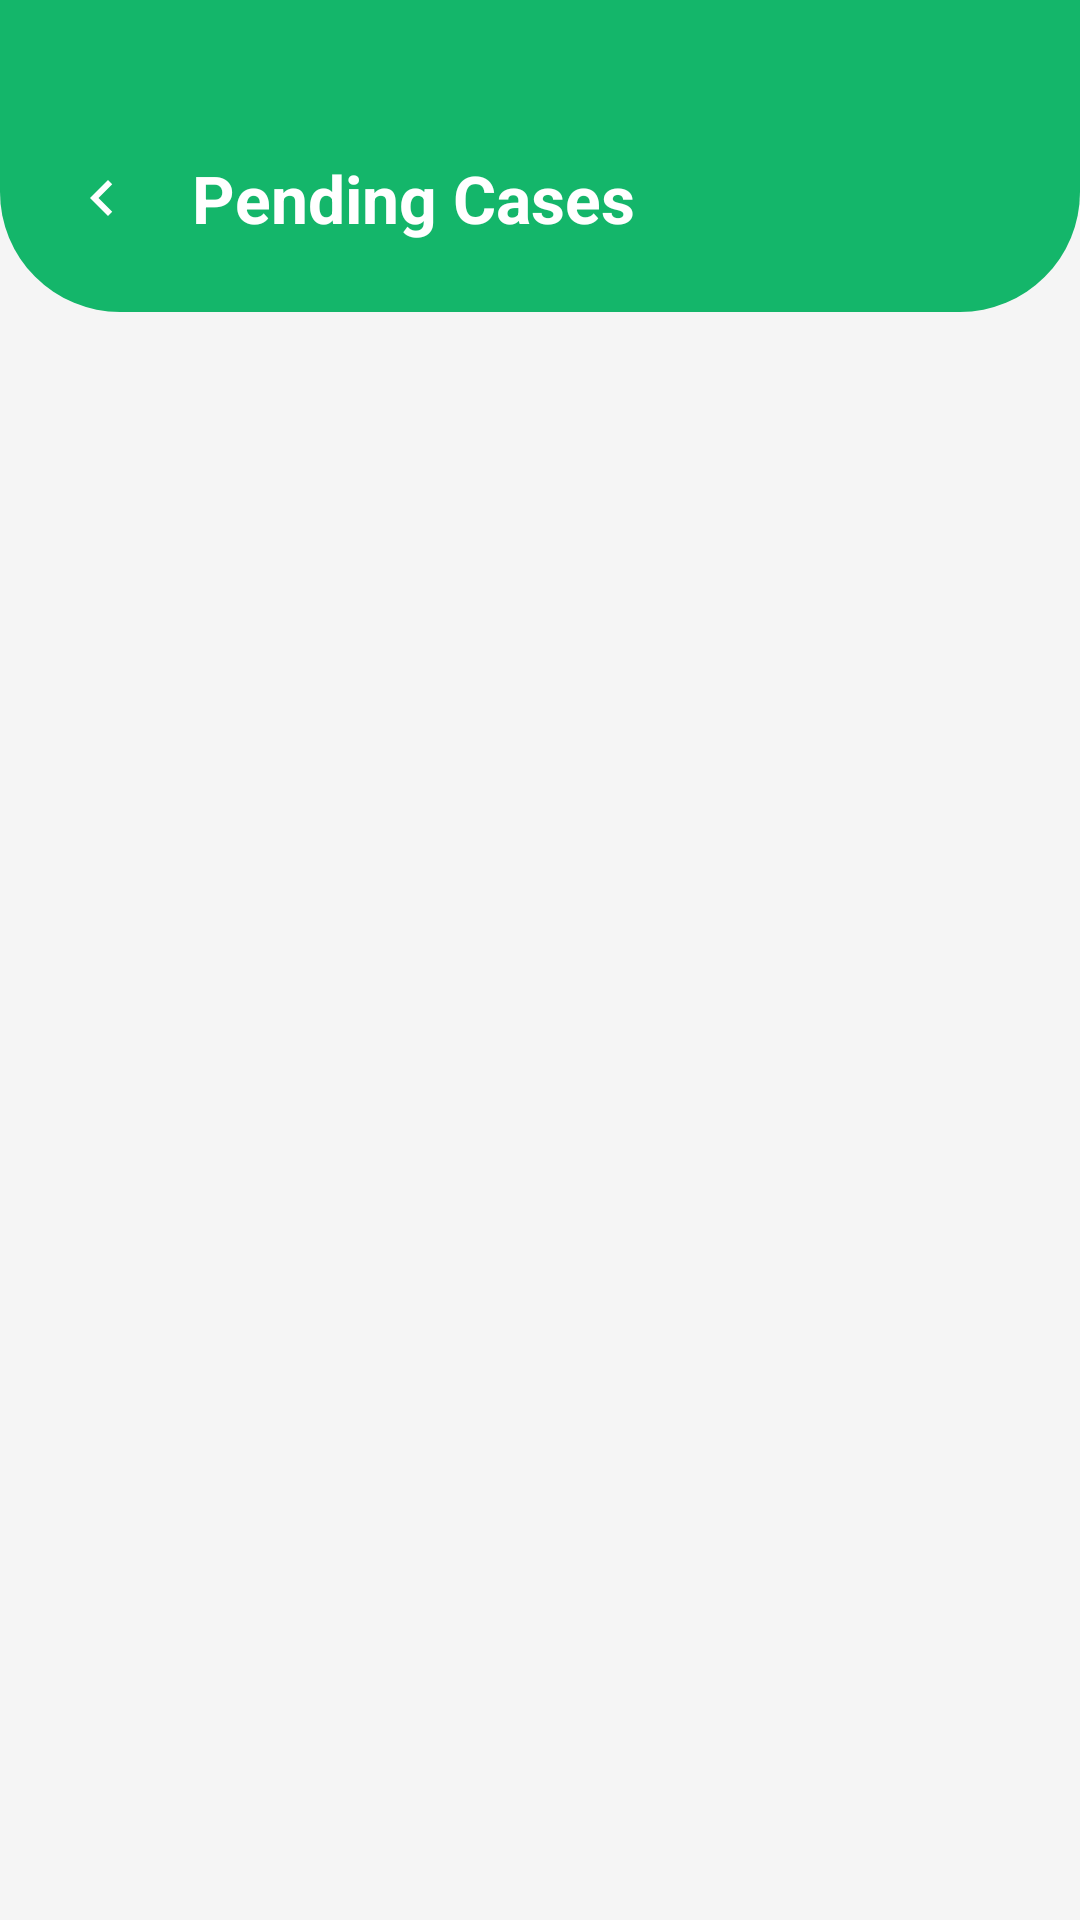

Icons on this 1080*1920 Android screen, each with the point to tap as (x,y):
back: (101,198)
